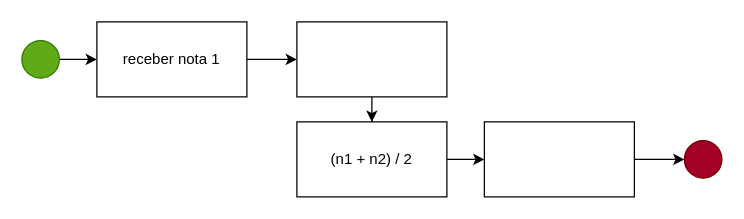
Some shapes in this 744 by 219 pixel diagram are drawn without their labels. The box of each missing label's shape, as (x1, y1, x2, y2) in pixels:
exibe a média: (483, 121, 634, 197)
receber nota 2: (296, 21, 447, 97)
